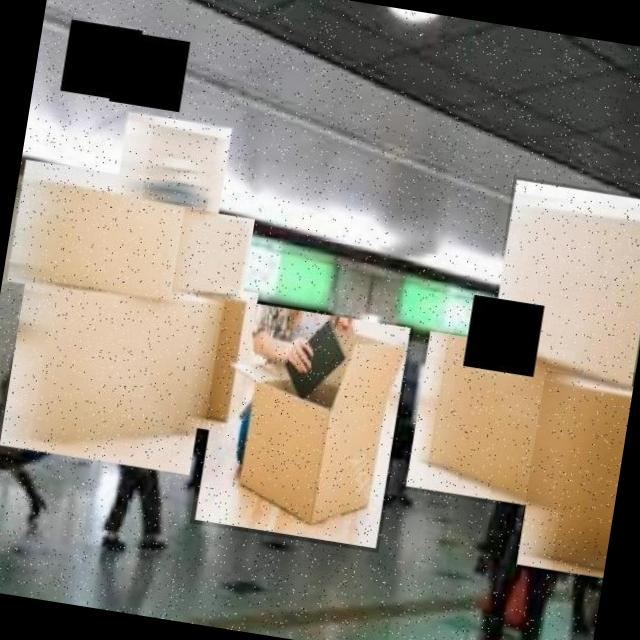box: (190, 296, 414, 553), (0, 269, 219, 480), (483, 175, 640, 394), (401, 328, 576, 514), (2, 158, 210, 312), (515, 370, 634, 581), (112, 110, 234, 219), (192, 285, 259, 437), (170, 208, 255, 314)
